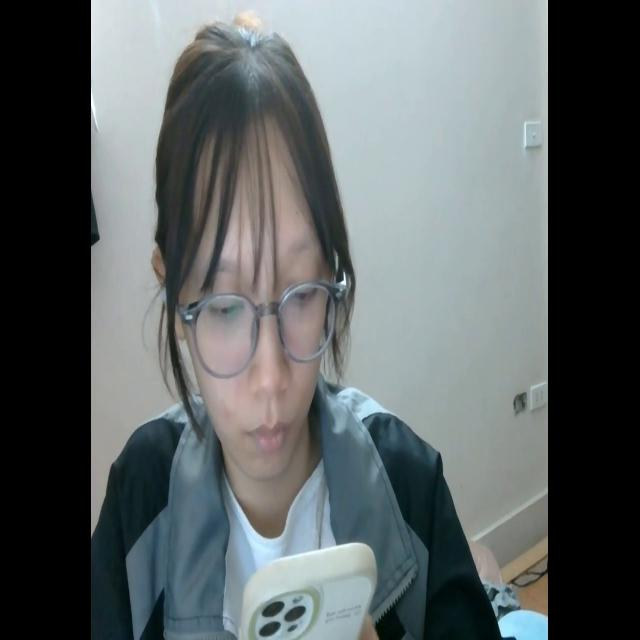phone: (238, 534, 381, 640)
student: (93, 15, 502, 640)
